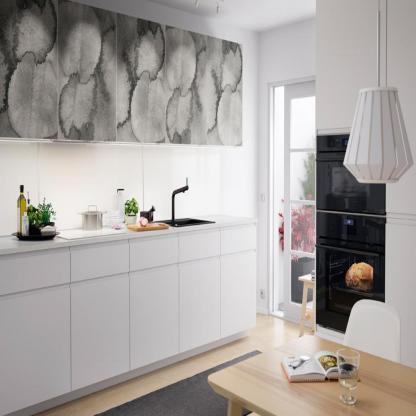Table: (207, 332, 416, 416)
